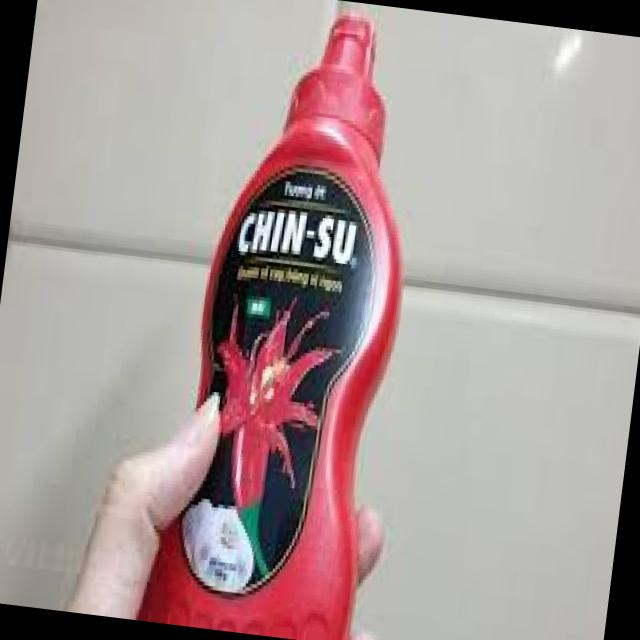tuong ot chinsu: (157, 0, 429, 640)
